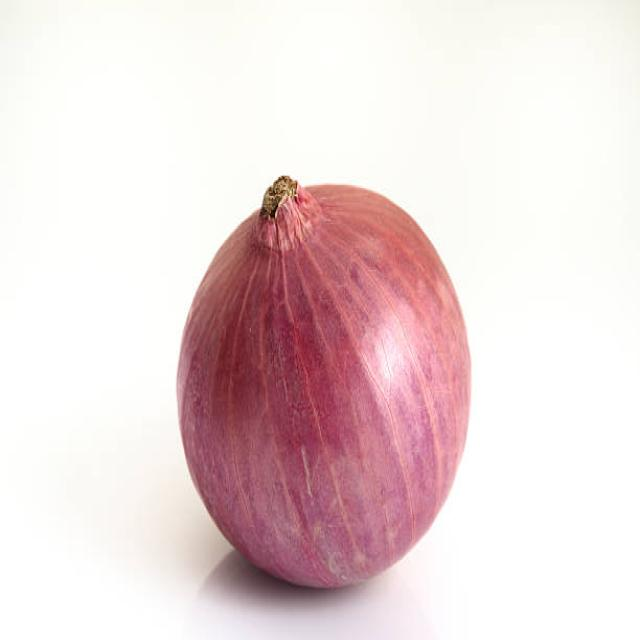onion: (175, 159, 478, 599)
